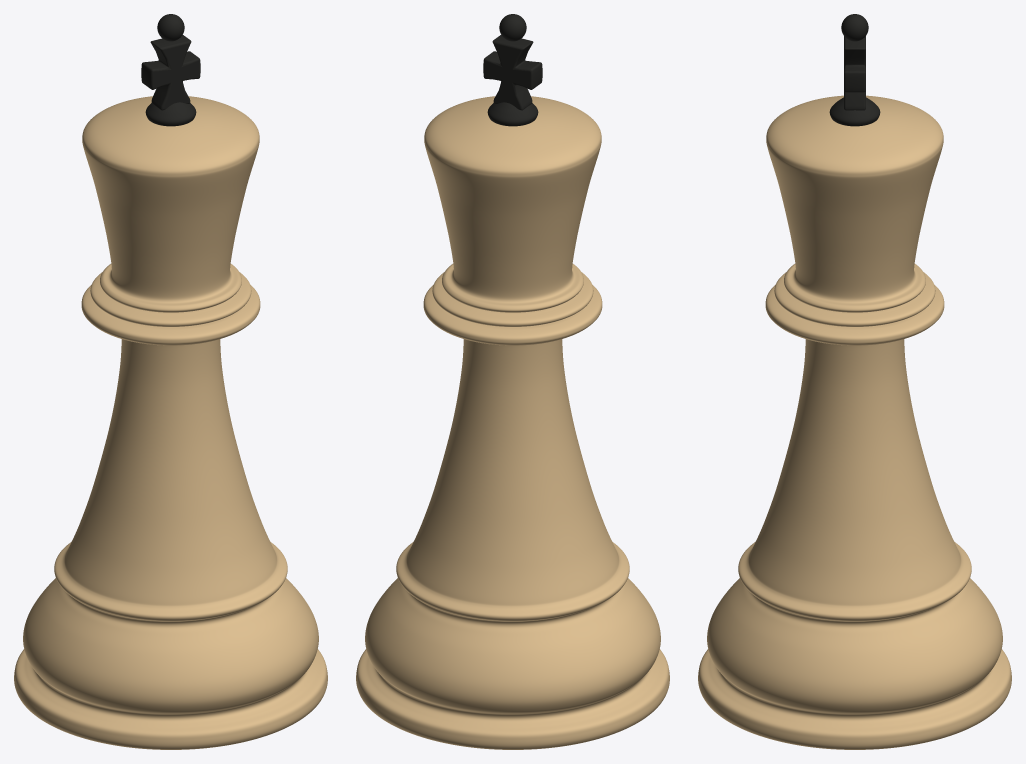
File: king-cross.glb
3 renders of one model, left to right at view 1: azimuth 30°, elevation 25°; view 2: azimuth 150°, elevation 25°; view 3: azimuth 270°, elevation 25°, orthographic.
Parts seen in each view (by area): view 1: King cross.001; view 2: King cross.001; view 3: King cross.001.
Part boxes in pixels (<box>): King cross.001: <box>14,14,327,749</box>; King cross.001: <box>356,14,669,749</box>; King cross.001: <box>698,14,1011,749</box>.
Bounding box in the file's own units: 0.0413 × 0.0984 × 0.0413.
